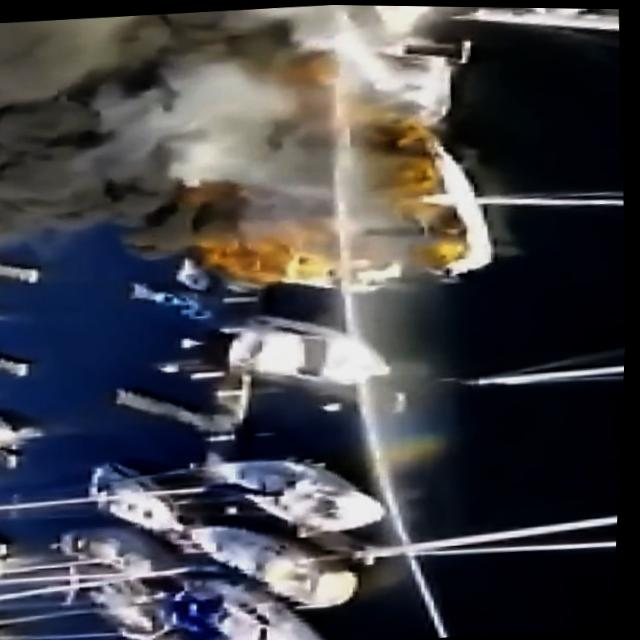fire: (224, 224, 298, 280)
smoke: (0, 85, 105, 243), (0, 12, 145, 105)
